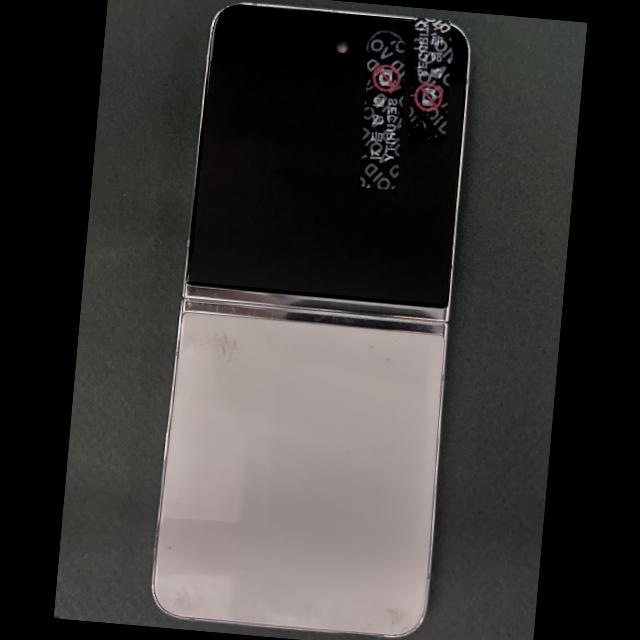lens: (368, 30, 402, 42)
phone: (152, 4, 468, 636)
sticker: (359, 39, 406, 190), (407, 17, 451, 140)
